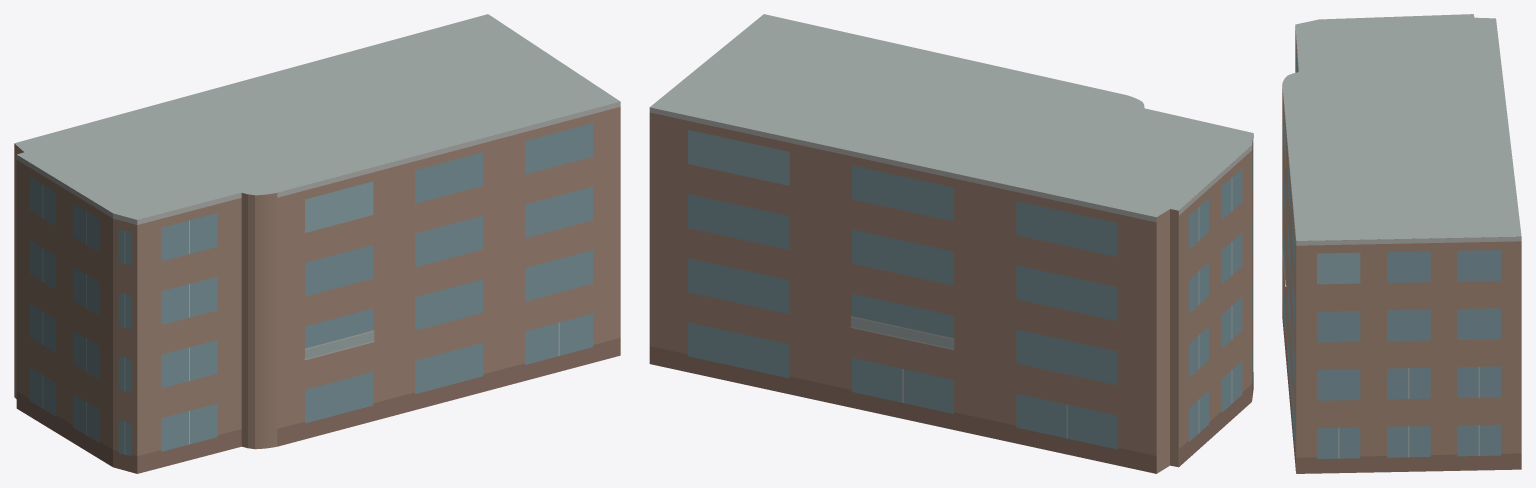
Rendered from survey-upis-32939090.glb.
3 renders of one model, left to right at view 1: azimuth 30°, elevation 25°; view 2: azimuth 150°, elevation 25°; view 3: azimuth 270°, elevation 25°, orthographic. The views are drawn at different scales.
Visible parts, largest first — view 1: survey-upis-32939090.tmp; view 2: survey-upis-32939090.tmp; view 3: survey-upis-32939090.tmp.
Boxes of the visible parts, <box> form: survey-upis-32939090.tmp: <box>14,14,620,473</box>; survey-upis-32939090.tmp: <box>649,14,1253,473</box>; survey-upis-32939090.tmp: <box>1282,14,1521,473</box>.
Size of the model in its own units: 25.52 by 12.2 by 11.37.
